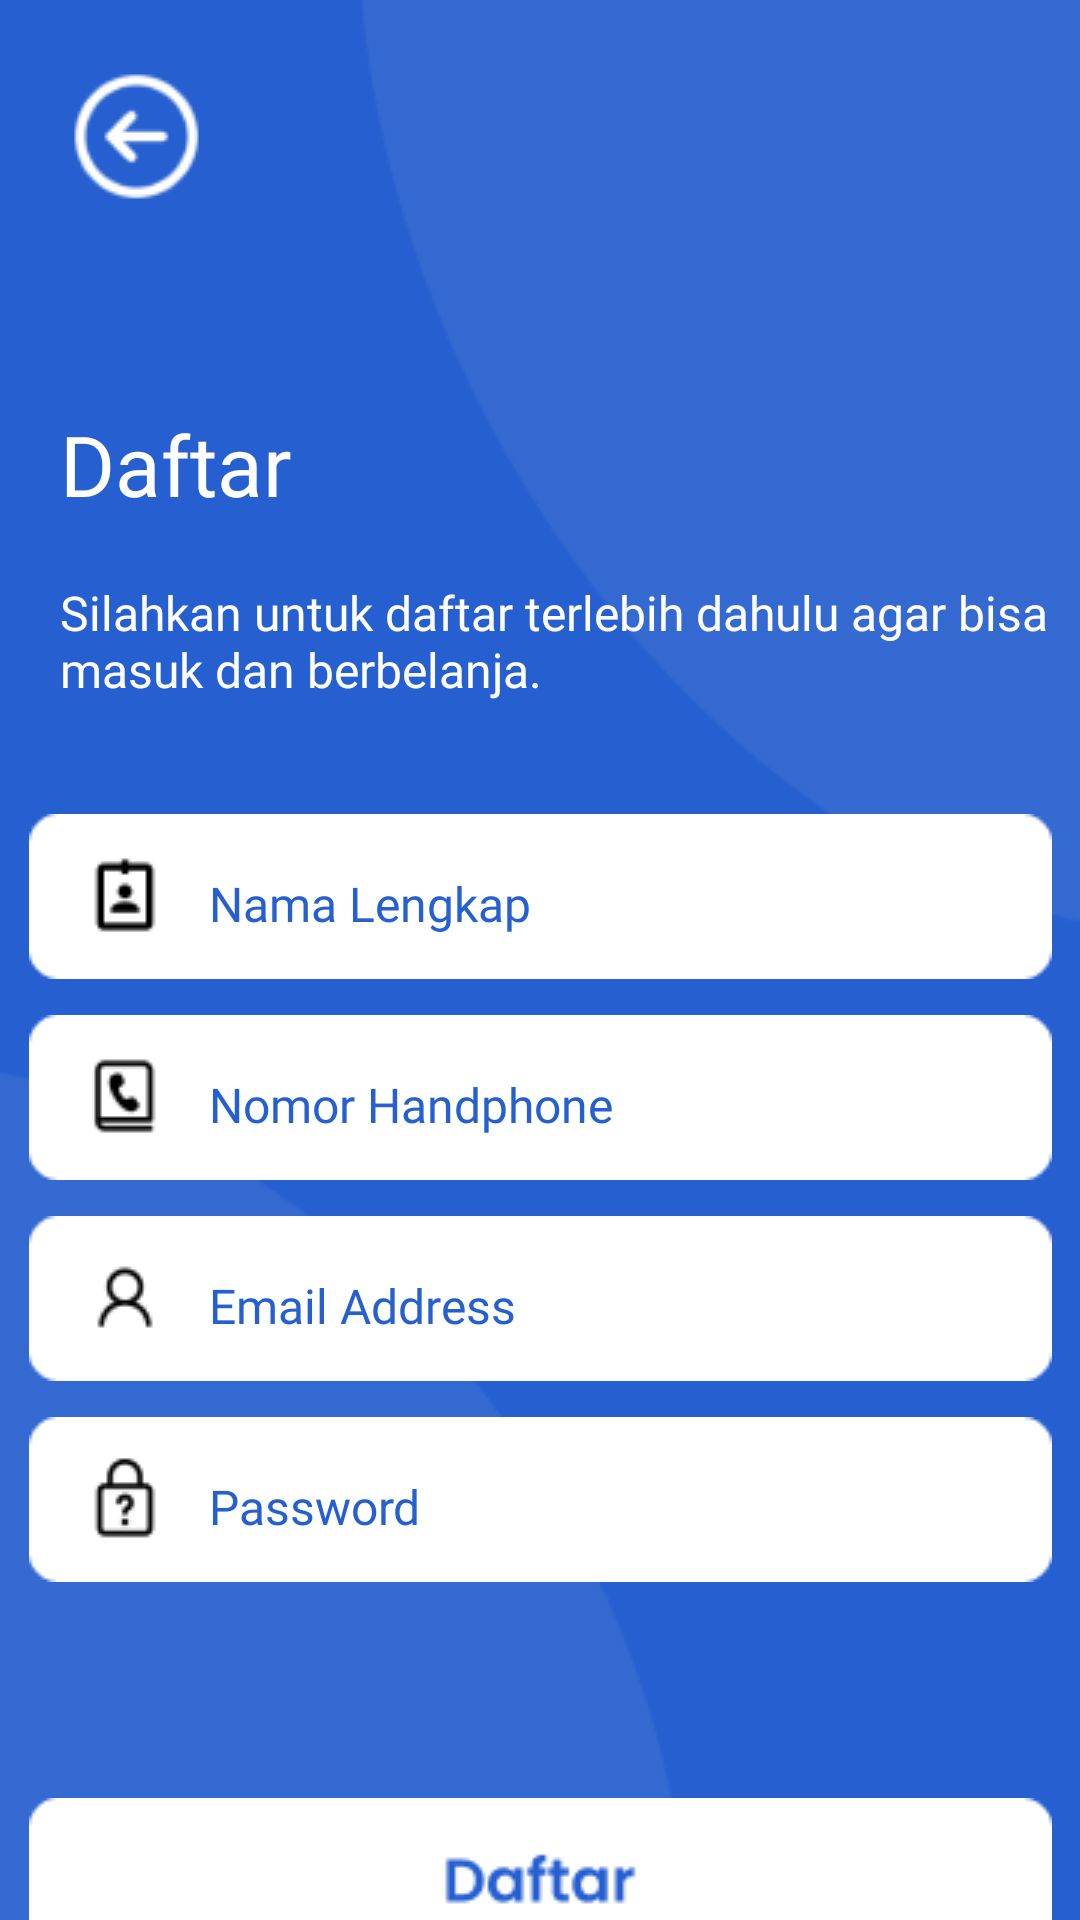

Icons on this 1080*1920 Android screen, each with its box as (x1, y1, x2, y2):
backbtn: (74, 74, 199, 199)
